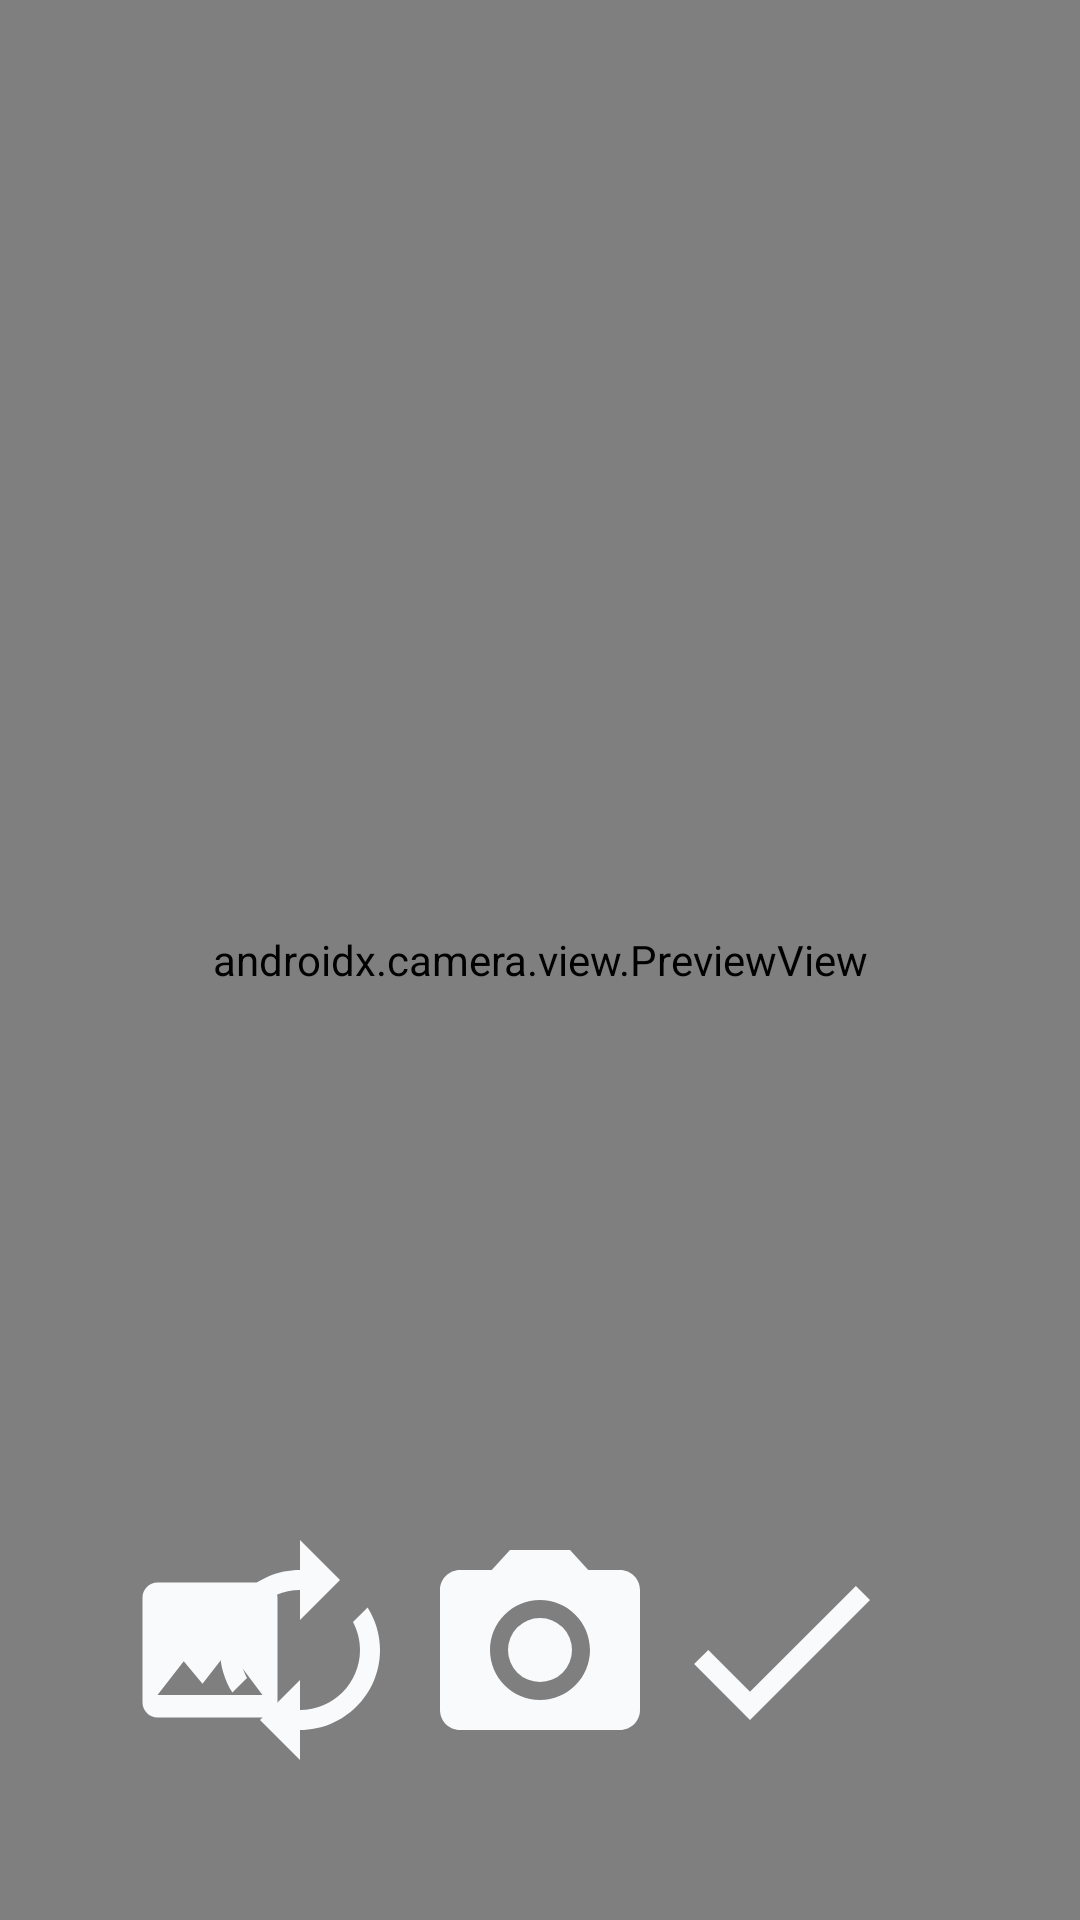

Named icons in this screenshot (1080×1920) and their centers, point (x, y):
check: point (782, 1653)
take a photo: point (540, 1640)
